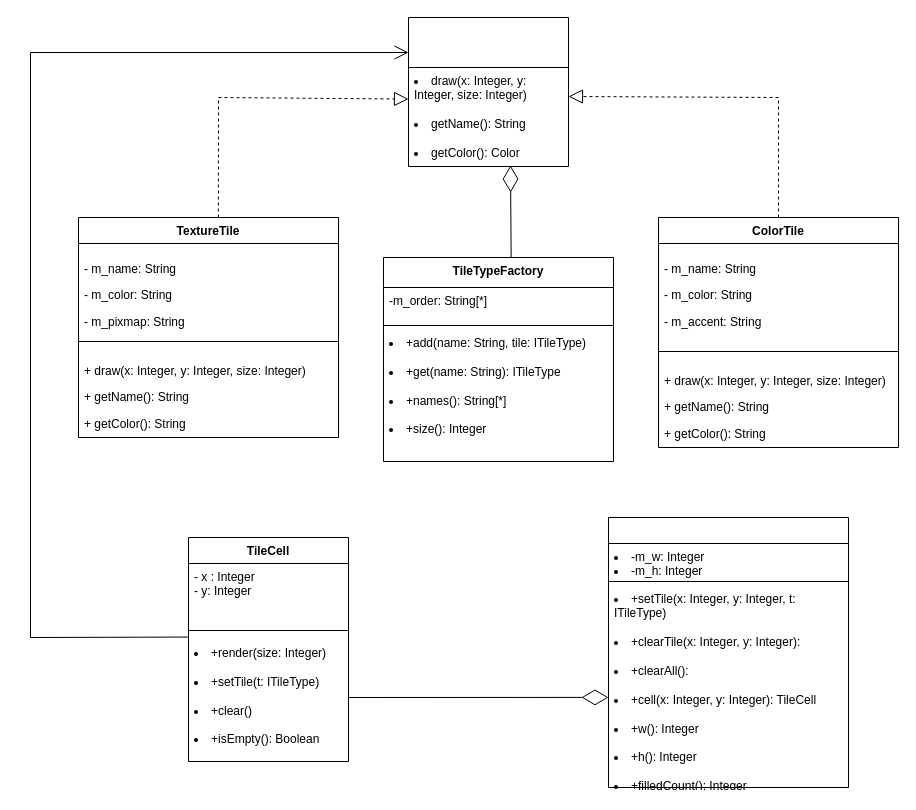
This 916x810 diagram has some shape labels left out. Here are the shapes that lost their labels. From the top down, the box of each, then its label:
(408, 16, 568, 166): <<interface>> ITileType
(608, 516, 848, 788): GameMap
